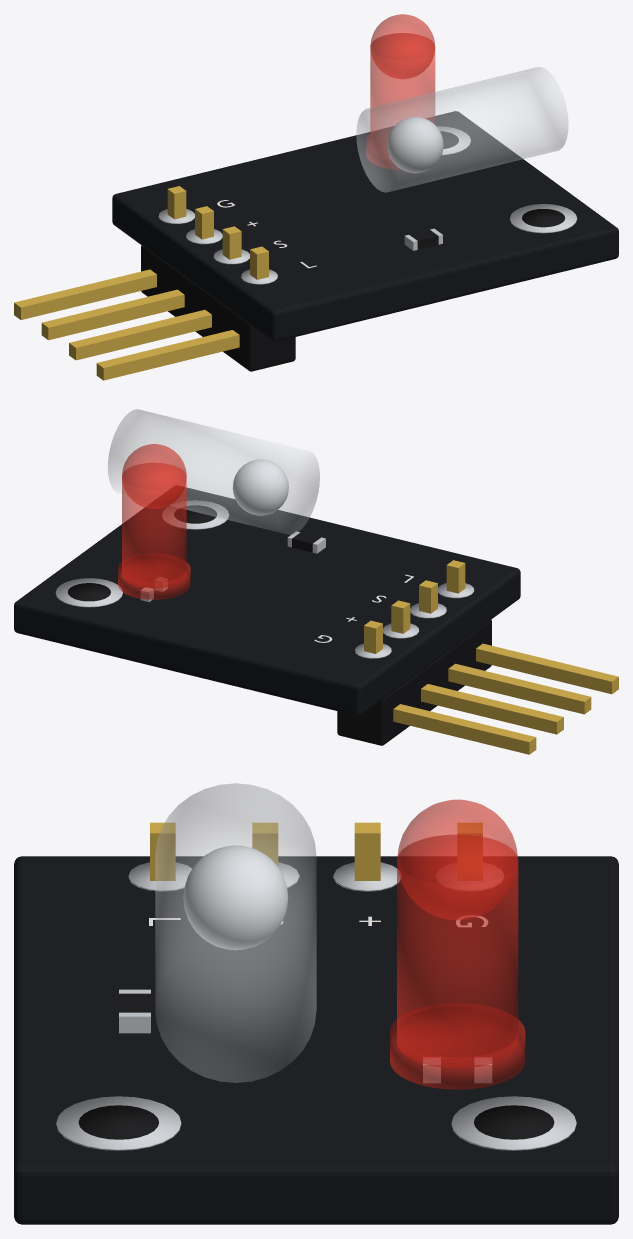
File: light-cup-module.glb
3 renders of one model, top to bottom at view 1: azimuth 30°, elevation 25°; view 2: azimuth 150°, elevation 25°; view 3: azimuth 270°, elevation 25°, orthographic. The views are drawn at different scales.
Visible parts, largest first — view 1: pcb.014, part.053, led_body.001, header.014, led_dome.001, pin_h.046, pin_h.048, pin_h.047, pin_h.045, part.054, hole_ring.026, hole.026 (+5 smaller); view 2: pcb.014, part.053, led_body.001, header.014, led_dome.001, led_rim.001, pin_h.047, pin_h.045, pin_h.048, pin_h.046, part.054, hole_ring.025 (+7 smaller); view 3: pcb.014, part.053, led_body.001, led_dome.001, led_rim.001, part.054, hole_ring.025, hole_ring.026, hole.025, hole.026, pin_v.046, pin_v.048 (+7 smaller).
Boxes of the visible parts, x1,y1,x2,y2 form: pcb.014: (112,111,618,341); part.053: (356,67,568,192); led_body.001: (370,33,435,150); header.014: (141,245,295,371); led_dome.001: (370,14,435,78); pin_h.046: (41,289,184,340); pin_h.048: (96,330,239,380); pin_h.047: (69,309,211,360); pin_h.045: (14,269,156,319); part.054: (387,117,443,173); hole_ring.026: (510,204,577,233); hole.026: (522,209,565,227); pcb.014: (14,486,520,715); part.053: (108,409,319,534); led_body.001: (122,463,186,587); header.014: (337,619,491,745); led_dome.001: (122,444,186,508); led_rim.001: (118,553,190,599); pin_h.047: (448,663,591,714); pin_h.045: (393,704,536,754); pin_h.048: (476,643,618,694); pin_h.046: (421,684,563,734); part.054: (232,459,288,515); hole_ring.025: (55,578,122,607); pcb.014: (14,856,618,1224); part.053: (155,783,316,1082); led_body.001: (397,834,518,1067); led_dome.001: (397,799,517,919); led_rim.001: (390,1003,525,1089); part.054: (183,845,288,950); hole_ring.025: (451,1096,576,1150); hole_ring.026: (56,1096,181,1150); hole.025: (474,1105,554,1139); hole.026: (78,1105,158,1139); pin_v.046: (354,822,380,880); pin_v.048: (150,822,175,880).
Bounding box in the file's own units: 0.0256 × 0.0116 × 0.015.
